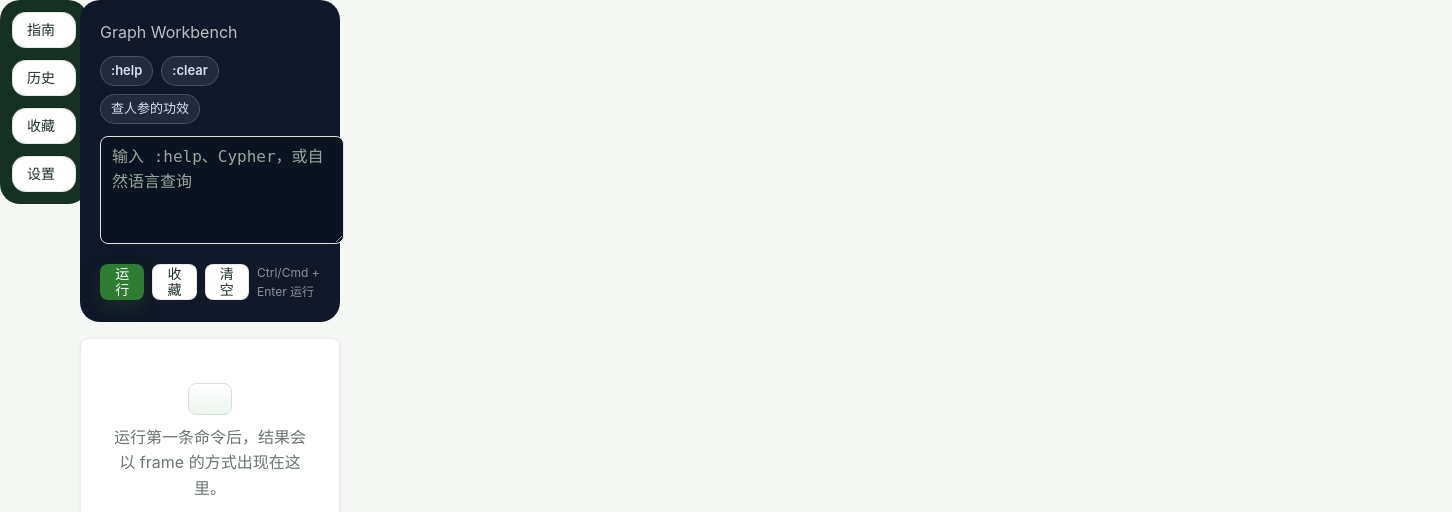
Test: GraphWorkbenchPage › recalls a history command back into the editor
Click the button with aria-label "打开历史抽屉" at (44, 78), box x1=12 y1=60 x2=76 y2=96
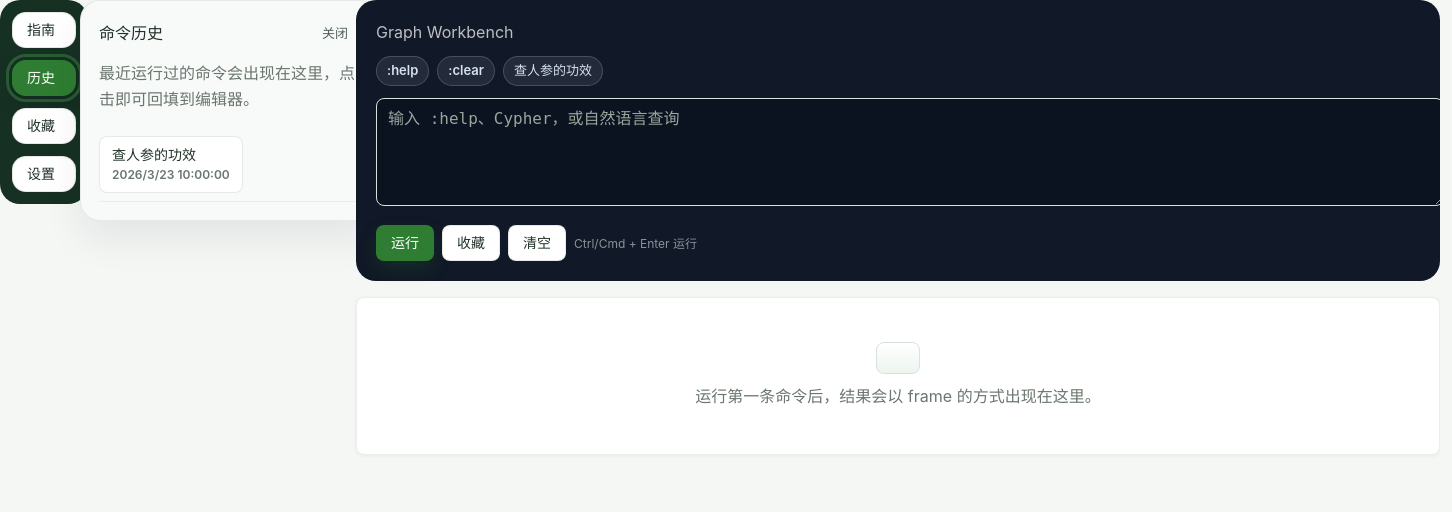
Click the button with aria-label "回填命令 查人参的功效" at (171, 165), box x1=99 y1=136 x2=243 y2=193
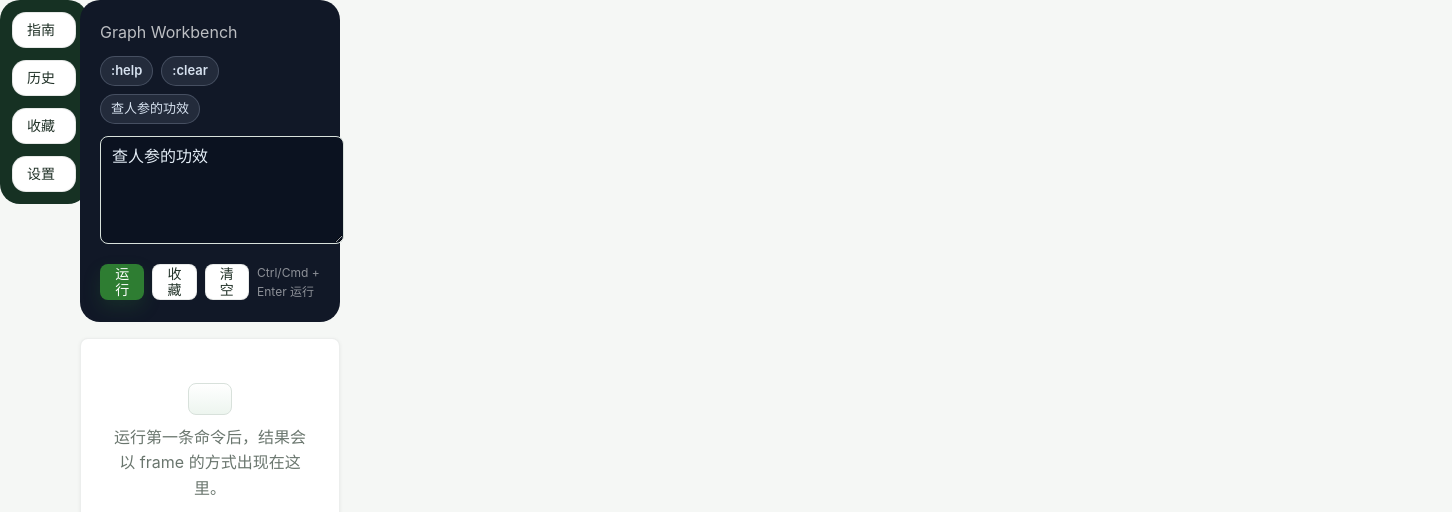
Now the text box with placeholder "输入 :help、Cypher，或自然语言查询" holds "查人参的功效", box x1=100 y1=136 x2=344 y2=244
